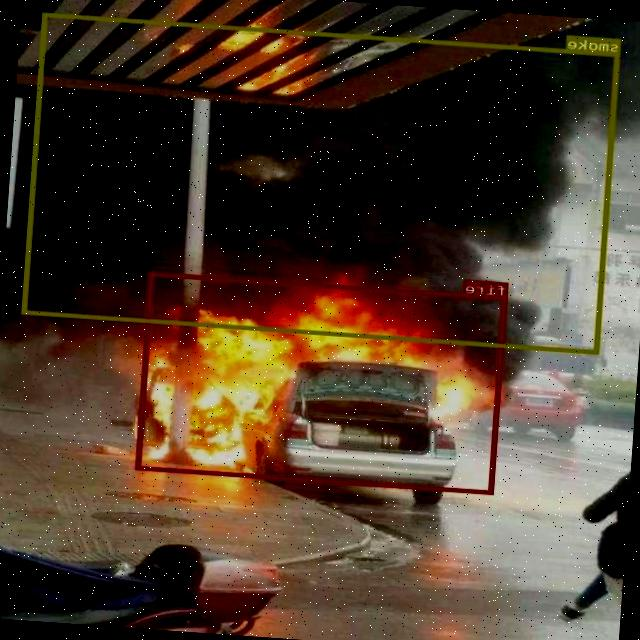fire: (136, 271, 508, 494)
smoke: (22, 11, 620, 354)
